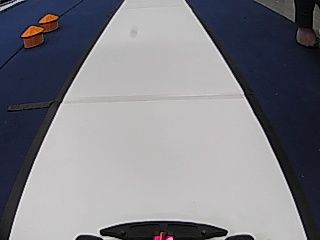granary: (20, 23, 44, 49), (38, 13, 59, 32)
